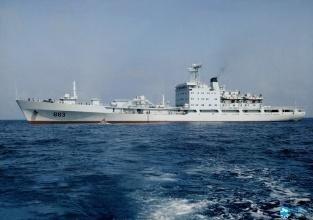warship: (9, 56, 313, 126)
